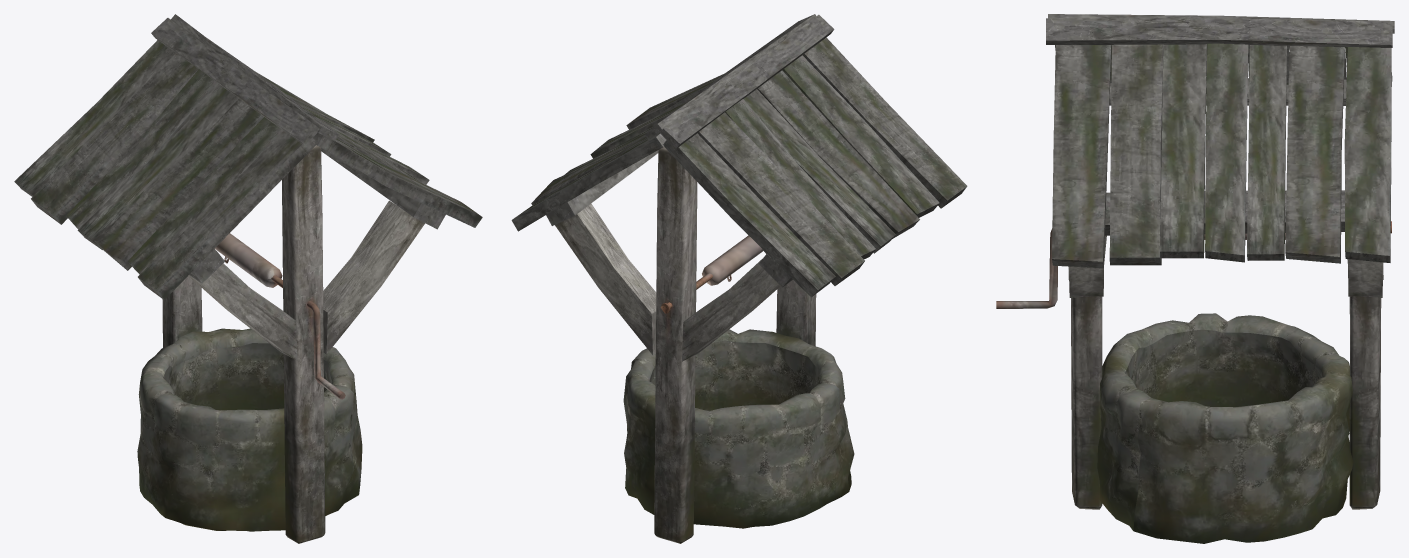
File: well_c.glb
3 views of the same model, side by side, from view 1: azimuth 30°, elevation 25°; view 2: azimuth 150°, elevation 25°; view 3: azimuth 270°, elevation 25° (orthographic). The views are drawn at different scales.
Parts seen in each view (by area): view 1: SM_OldWell; view 2: SM_OldWell; view 3: SM_OldWell.
Part boxes in pixels (left/top/right/bottom): SM_OldWell: left=14, top=14, right=482, bottom=543; SM_OldWell: left=511, top=14, right=967, bottom=543; SM_OldWell: left=996, top=14, right=1394, bottom=543.
Size of the model in its own units: 2.46 by 3.09 by 2.3.
Materials: 1 (1 with a texture image).
